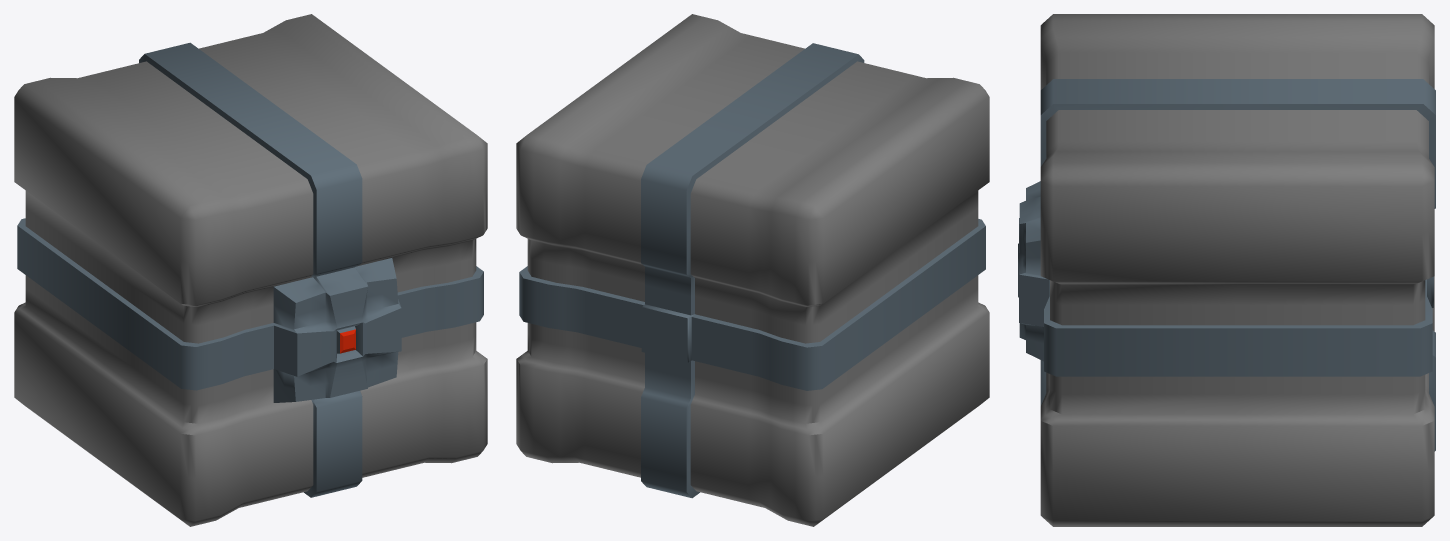
The model's file is metalcrate.fbx.
3 renders of one model, left to right at view 1: azimuth 30°, elevation 25°; view 2: azimuth 150°, elevation 25°; view 3: azimuth 270°, elevation 25°, orthographic. The views are drawn at different scales.
Visible parts, largest first — view 1: MetalCrate; view 2: MetalCrate; view 3: MetalCrate.
Part boxes in pixels (x1,y1,x2,y2): MetalCrate: [14, 14, 487, 526]; MetalCrate: [516, 14, 989, 526]; MetalCrate: [1018, 14, 1435, 526].
Size of the model in its own units: 2600 by 2607 by 2757.
